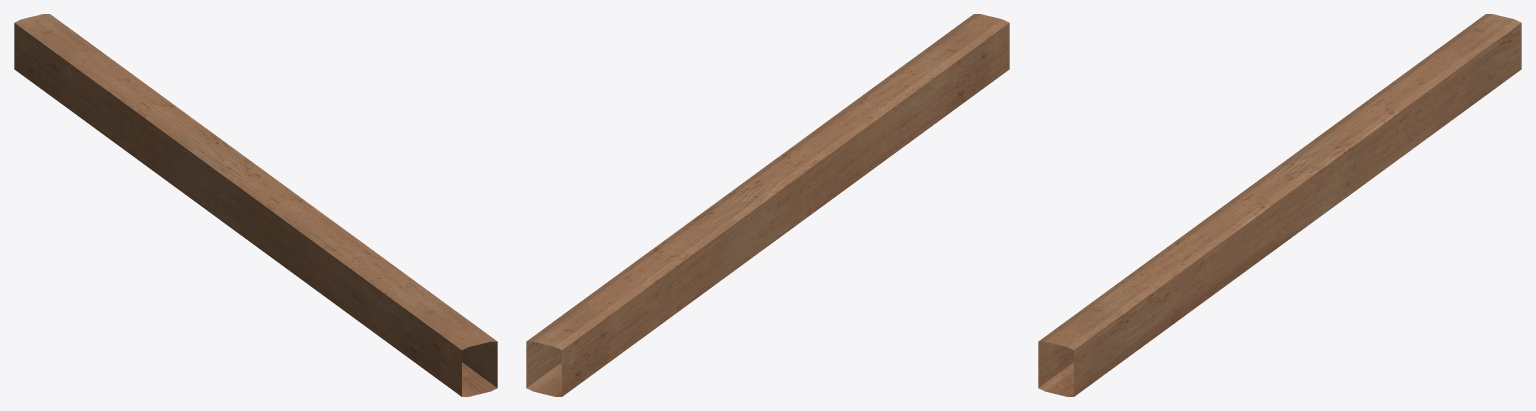
File: SM_JSH_BeamD.fbx
The picture shows the model from 3 angles, left to right: view 1: azimuth 30°, elevation 25°; view 2: azimuth 150°, elevation 25°; view 3: azimuth 330°, elevation 25°; orthographic projection.
Parts seen in each view (by area): view 1: SM_JSH_BeamD; view 2: SM_JSH_BeamD; view 3: SM_JSH_BeamD.
Boxes of the visible parts, x1,y1,x2,y2 form: SM_JSH_BeamD: [14, 14, 497, 396]; SM_JSH_BeamD: [526, 14, 1009, 396]; SM_JSH_BeamD: [1038, 14, 1521, 396].
Bounding box in the file's own units: 11.24 × 243 × 14.96.
1 material, 1 textured.
